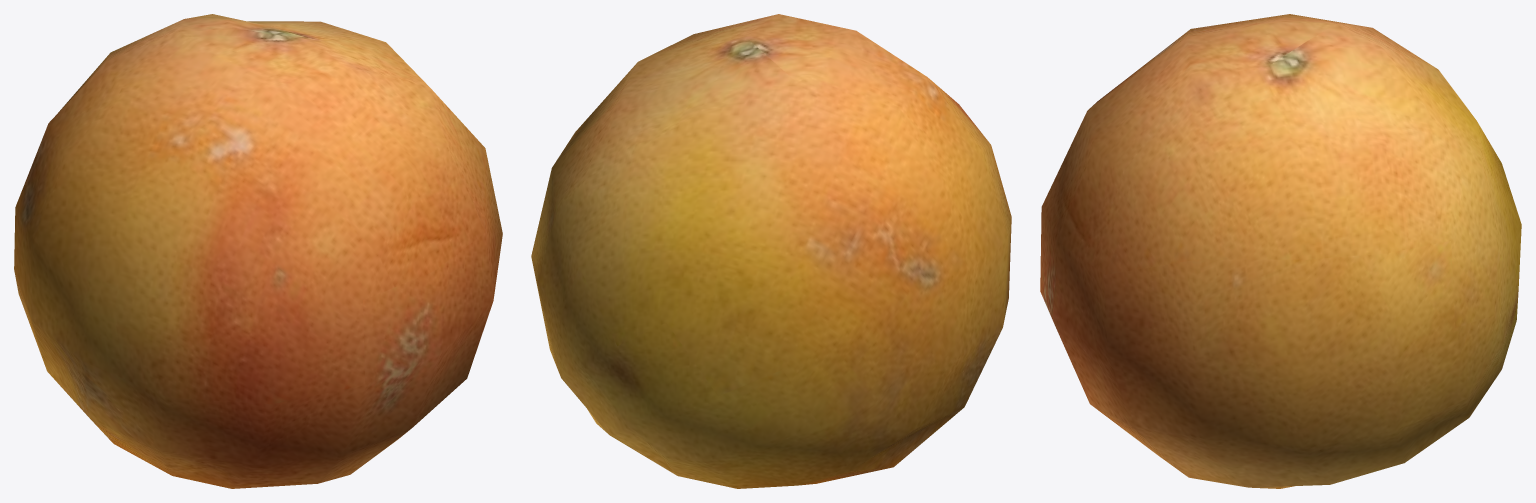
Rendered from A60_Orange_low.fbx.
The picture shows the model from 3 angles, left to right: view 1: azimuth 30°, elevation 25°; view 2: azimuth 150°, elevation 25°; view 3: azimuth 270°, elevation 25°; orthographic projection.
Visible parts, largest first — view 1: A60_Orange_low; view 2: A60_Orange_low; view 3: A60_Orange_low.
Boxes of the visible parts, x1,y1,x2,y2 form: A60_Orange_low: (14,14,502,488); A60_Orange_low: (531,14,1011,488); A60_Orange_low: (1040,14,1521,488).
Size of the model in its own units: 11.2 by 11.27 by 10.64.
1 material, 1 textured.
